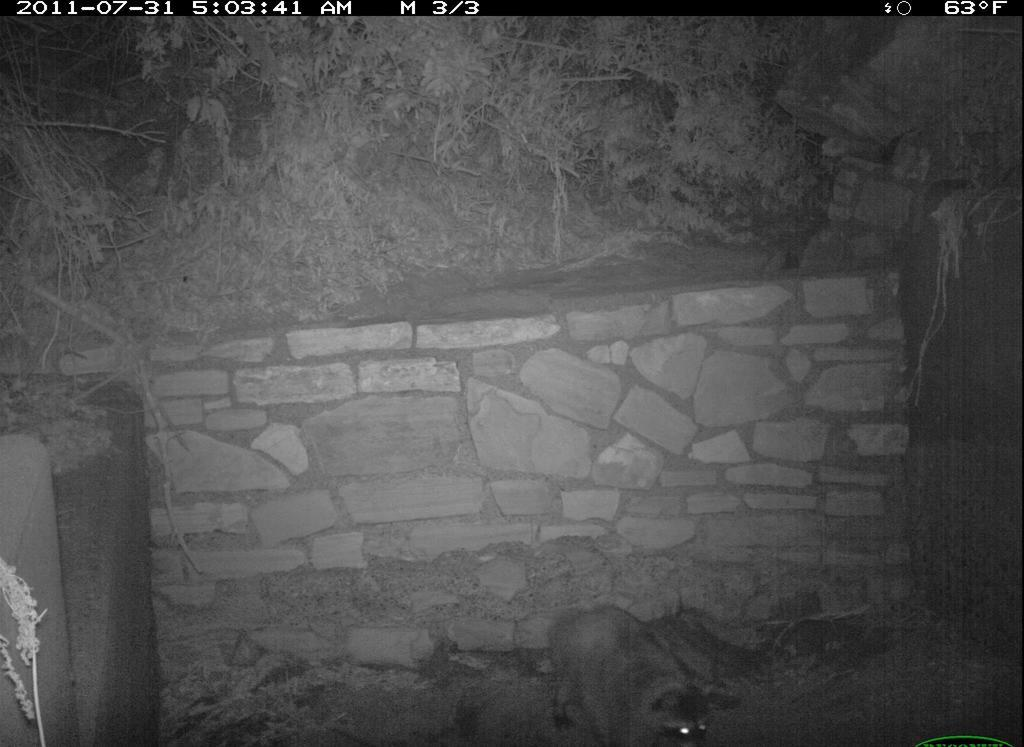raccoon: (520, 597, 729, 747)
